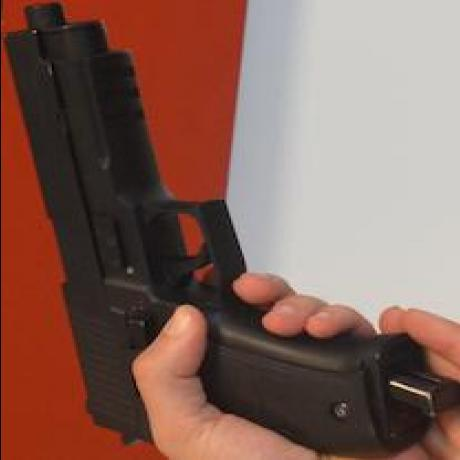weapon: (0, 9, 411, 454)
